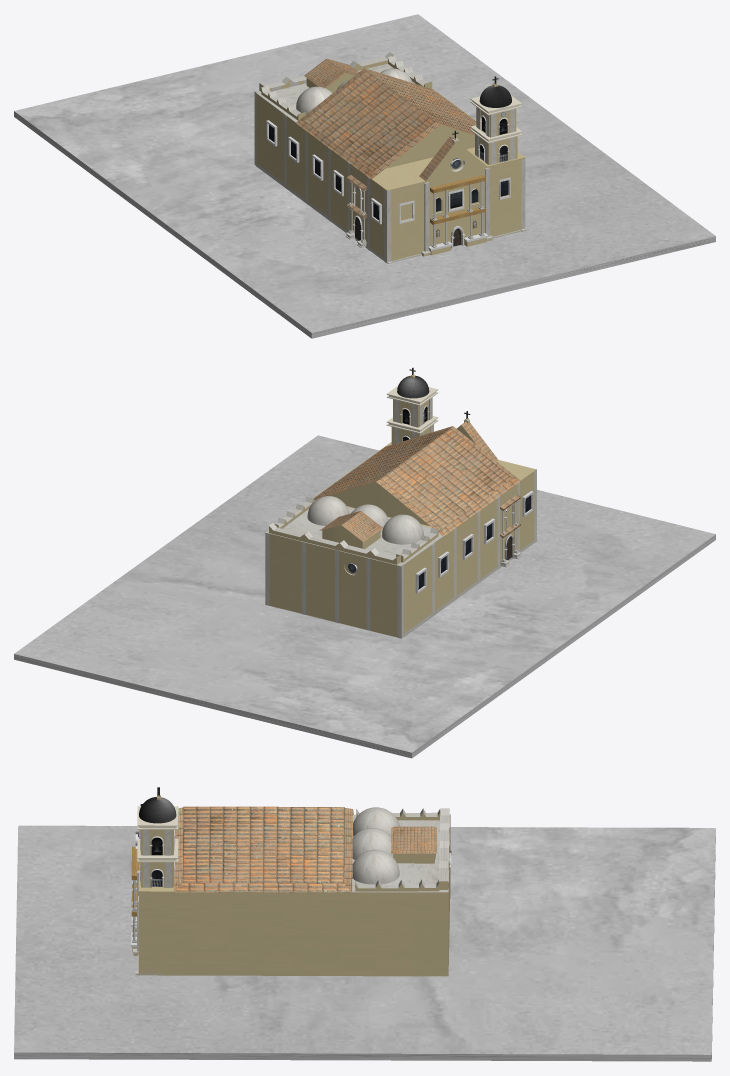
The model's file is San Agustin Church.glb.
3 renders of one model, top to bottom at view 1: azimuth 30°, elevation 25°; view 2: azimuth 150°, elevation 25°; view 3: azimuth 270°, elevation 25°, orthographic. The views are drawn at different scales.
Visible parts, largest first — view 1: Platform, Cube.003, Cylinder.001, Wall, Window, Cylinder.002, Cube.0011, Circle Roof, Cube.033; view 2: Platform, Cube.003, Cylinder.001, Wall, Window, Cylinder.002; view 3: Platform, Cube.003, Cylinder.001, Wall, Cylinder.002, Circle Roof.
Boxes of the visible parts, x1,y1,x2,y2 form: Platform: (14,14,715,338); Cube.003: (256,55,525,261); Cylinder.001: (296,58,476,218); Wall: (254,52,526,263); Window: (266,120,510,238); Cylinder.002: (452,95,522,143); Cube.0011: (430,175,485,224); Circle Roof: (479,85,511,107); Cube.033: (269,125,508,220); Platform: (14,435,715,758); Cube.003: (265,374,536,637); Cylinder.001: (314,421,520,541); Wall: (265,397,537,638); Window: (344,491,533,593); Cylinder.002: (386,386,469,433); Platform: (14,825,715,1061); Cube.003: (132,795,449,976); Cylinder.001: (139,806,437,892); Wall: (131,807,450,974); Cylinder.002: (137,806,178,862); Circle Roof: (139,797,176,823).
Size of the model in its own units: 108 by 40.1 by 140.
Materials: 18 (15 with a texture image).
